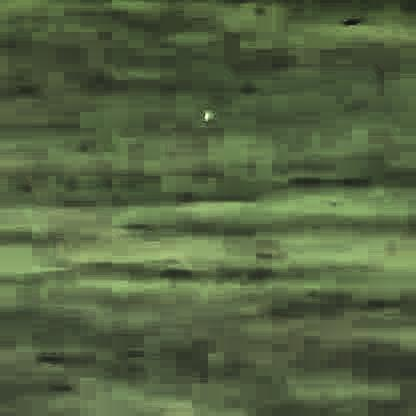golfball: (201, 107, 212, 118)
